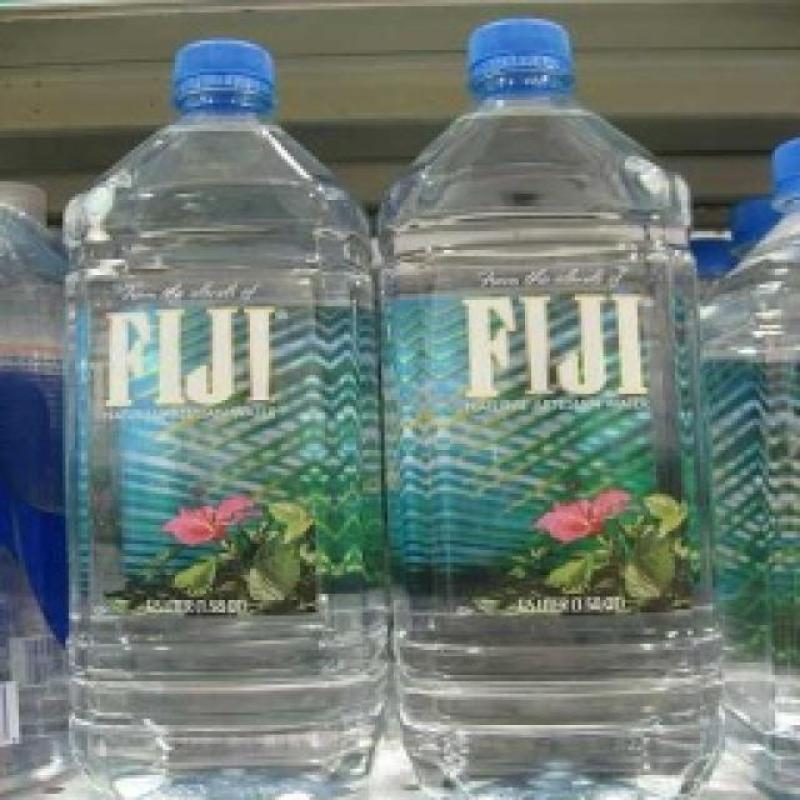botella: (387, 19, 735, 800), (56, 39, 394, 789), (690, 136, 800, 799), (0, 212, 88, 800)
